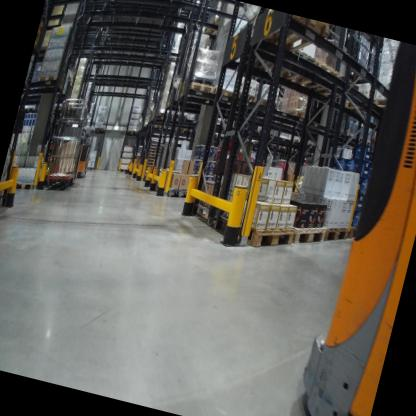pallet: (211, 207, 297, 258), (256, 8, 331, 62), (268, 42, 320, 92), (293, 53, 343, 97), (190, 198, 225, 238), (291, 219, 328, 252), (337, 90, 374, 121), (317, 218, 350, 252), (371, 90, 399, 119), (184, 78, 218, 100), (35, 67, 64, 92), (203, 13, 226, 43), (164, 180, 193, 200), (231, 89, 257, 111), (250, 95, 279, 113), (344, 225, 362, 252), (284, 107, 310, 125), (214, 85, 239, 103), (13, 177, 35, 194), (165, 110, 187, 126), (153, 109, 171, 122), (153, 121, 168, 132), (21, 106, 36, 117), (282, 143, 295, 153), (306, 140, 320, 149), (179, 124, 193, 133), (274, 143, 284, 153), (267, 140, 277, 149), (127, 127, 137, 136)
pallet_truck: (292, 41, 416, 416), (72, 126, 101, 180)
